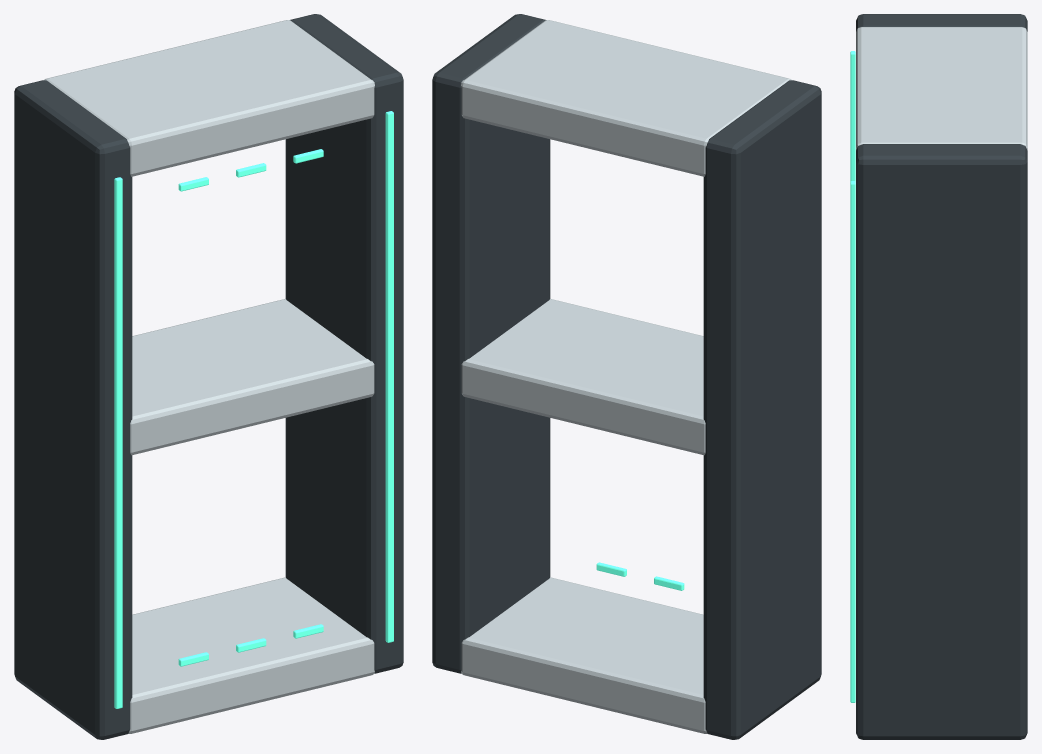
Rendered from ProviderEDC.glb.
The picture shows the model from 3 angles, left to right: view 1: azimuth 30°, elevation 25°; view 2: azimuth 150°, elevation 25°; view 3: azimuth 270°, elevation 25°; orthographic projection.
Visible parts, largest first — view 1: ProviderEDC_Mesh; view 2: ProviderEDC_Mesh; view 3: ProviderEDC_Mesh.
Boxes of the visible parts, x1,y1,x2,y2 form: ProviderEDC_Mesh: (14,14,403,739); ProviderEDC_Mesh: (432,14,821,739); ProviderEDC_Mesh: (850,14,1027,739).
Size of the model in its own units: 1.18 by 2.18 by 0.599.
